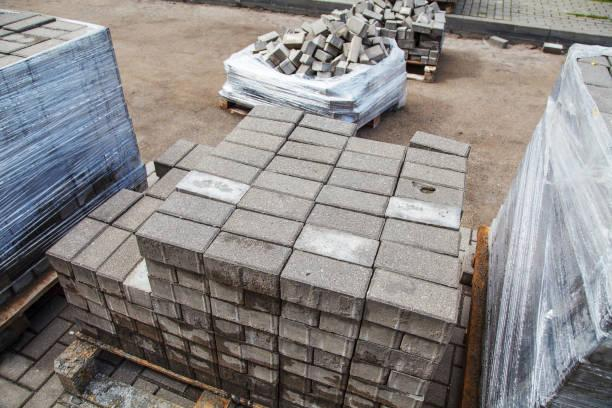Bricks: (363, 266, 460, 344), (279, 246, 372, 319), (202, 234, 292, 298), (375, 240, 456, 290), (291, 222, 378, 268), (73, 225, 133, 285), (379, 215, 460, 259), (46, 219, 105, 276), (218, 207, 302, 247), (281, 316, 355, 358), (95, 236, 144, 297), (156, 189, 232, 228), (356, 341, 432, 380), (139, 210, 215, 248), (234, 188, 311, 225), (307, 202, 385, 238), (138, 235, 202, 275), (210, 296, 275, 334), (388, 195, 460, 229), (179, 171, 248, 206), (254, 167, 321, 202), (394, 175, 461, 209), (281, 355, 344, 391), (193, 152, 259, 185), (343, 379, 419, 407), (319, 187, 392, 216), (330, 164, 398, 195), (154, 314, 215, 348), (109, 195, 163, 233), (215, 336, 275, 368), (264, 154, 332, 182), (221, 364, 277, 398), (201, 141, 271, 168), (411, 129, 471, 159), (339, 148, 402, 175), (400, 163, 464, 189), (89, 188, 144, 218), (234, 113, 296, 139), (105, 296, 156, 327), (276, 141, 339, 166), (121, 259, 151, 310), (156, 137, 193, 178), (347, 135, 404, 161), (288, 124, 345, 150), (227, 125, 283, 150), (59, 275, 104, 306), (146, 166, 189, 198), (402, 335, 447, 364), (359, 321, 402, 351), (247, 99, 303, 122), (406, 149, 464, 171), (300, 112, 354, 133), (322, 311, 359, 341), (116, 330, 161, 354), (279, 387, 333, 407), (351, 359, 389, 385), (243, 291, 279, 318), (76, 310, 114, 335), (174, 285, 210, 311), (312, 349, 348, 374), (209, 280, 244, 305), (178, 269, 210, 296), (176, 144, 208, 170), (282, 303, 318, 326), (308, 381, 340, 406), (212, 319, 245, 342), (279, 336, 309, 361), (387, 374, 426, 393), (183, 305, 210, 331), (216, 379, 249, 399), (145, 260, 176, 281), (188, 341, 215, 365), (184, 352, 216, 372), (151, 296, 180, 318), (247, 331, 277, 352), (136, 320, 160, 344), (150, 279, 174, 302), (163, 331, 189, 352), (281, 372, 307, 393), (144, 350, 169, 370), (113, 314, 137, 334), (192, 371, 216, 391), (217, 353, 242, 372), (249, 363, 275, 380), (120, 342, 146, 359), (90, 301, 110, 322), (67, 292, 90, 310), (170, 359, 193, 377), (163, 344, 182, 364), (249, 391, 269, 407), (99, 333, 120, 348)
